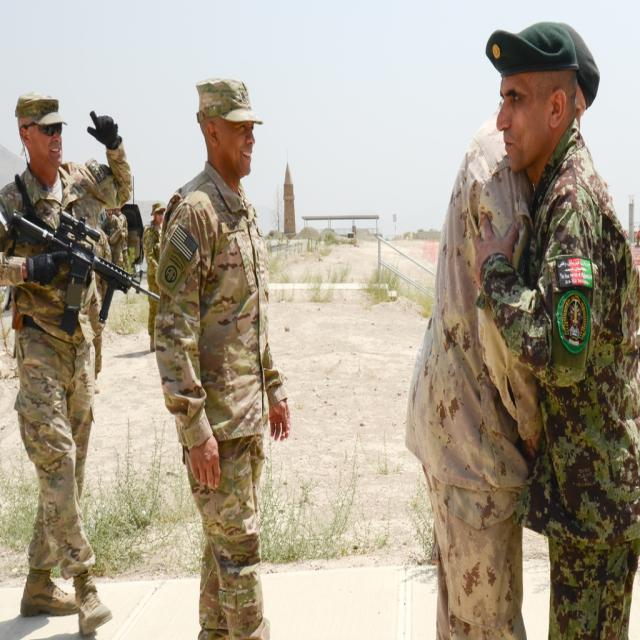Weapon: (1, 182, 183, 406)
